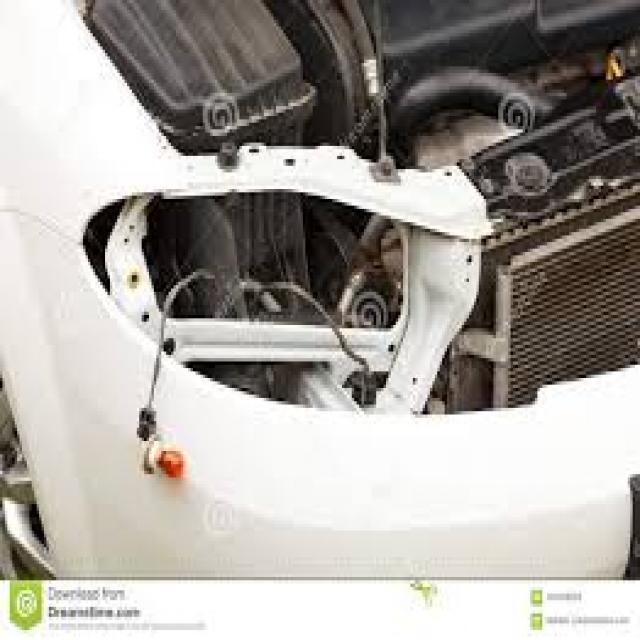damaged-head-light: (104, 183, 466, 426)
